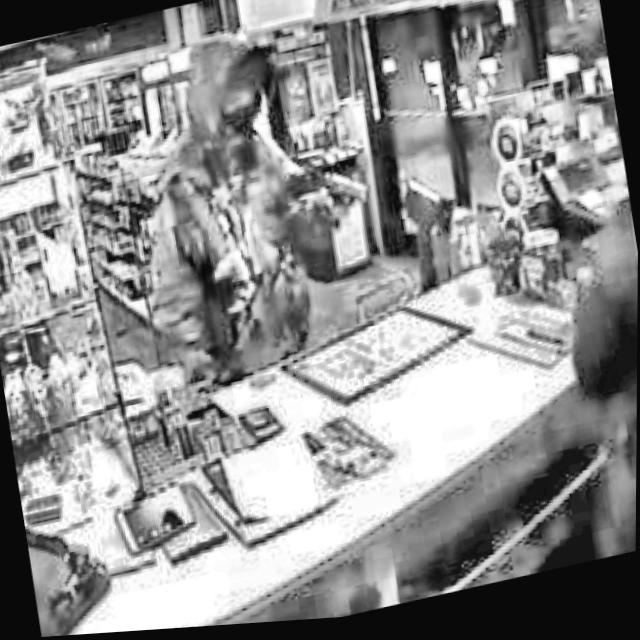robbery: (103, 8, 399, 406)
